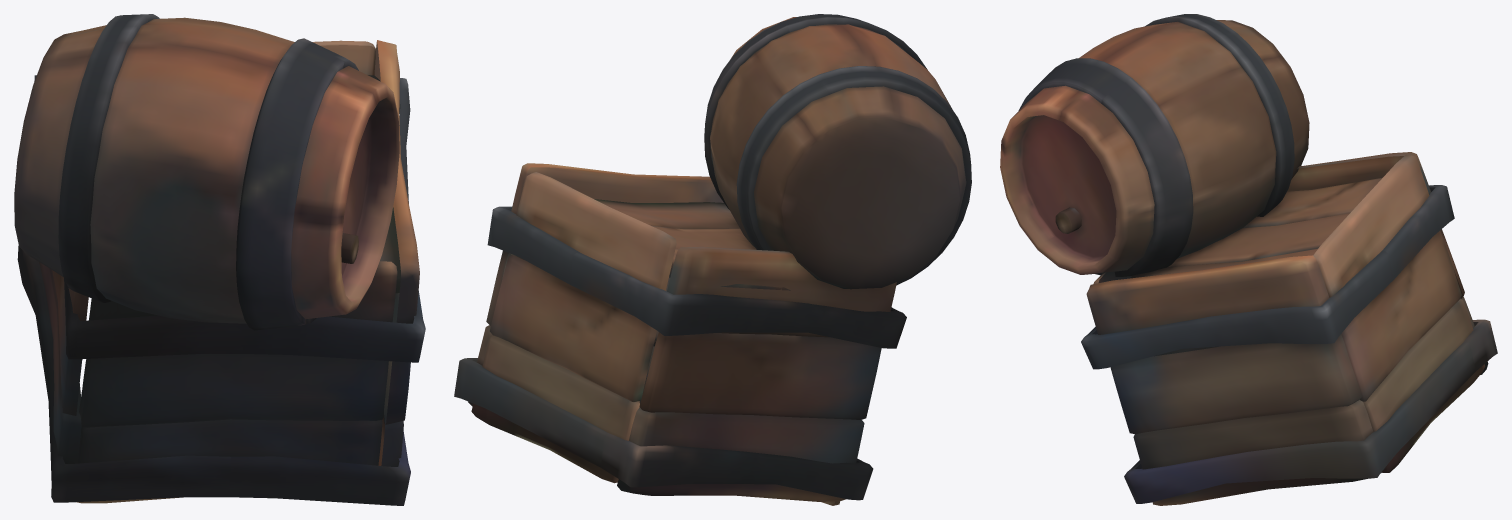
The model's file is Beach_Debris_5.glb.
3 renders of one model, left to right at view 1: azimuth 30°, elevation 25°; view 2: azimuth 150°, elevation 25°; view 3: azimuth 270°, elevation 25°, orthographic. The views are drawn at different scales.
Visible parts, largest first — view 1: Object_2.020; view 2: Object_2.020; view 3: Object_2.020.
Part boxes in pixels (x1=…): Object_2.020: x1=14, y1=14, x2=425, y2=505; Object_2.020: x1=454, y1=14, x2=971, y2=505; Object_2.020: x1=1000, y1=14, x2=1497, y2=505.
Size of the model in its own units: 11.14 by 10.98 by 12.51.
1 material, 1 textured.
